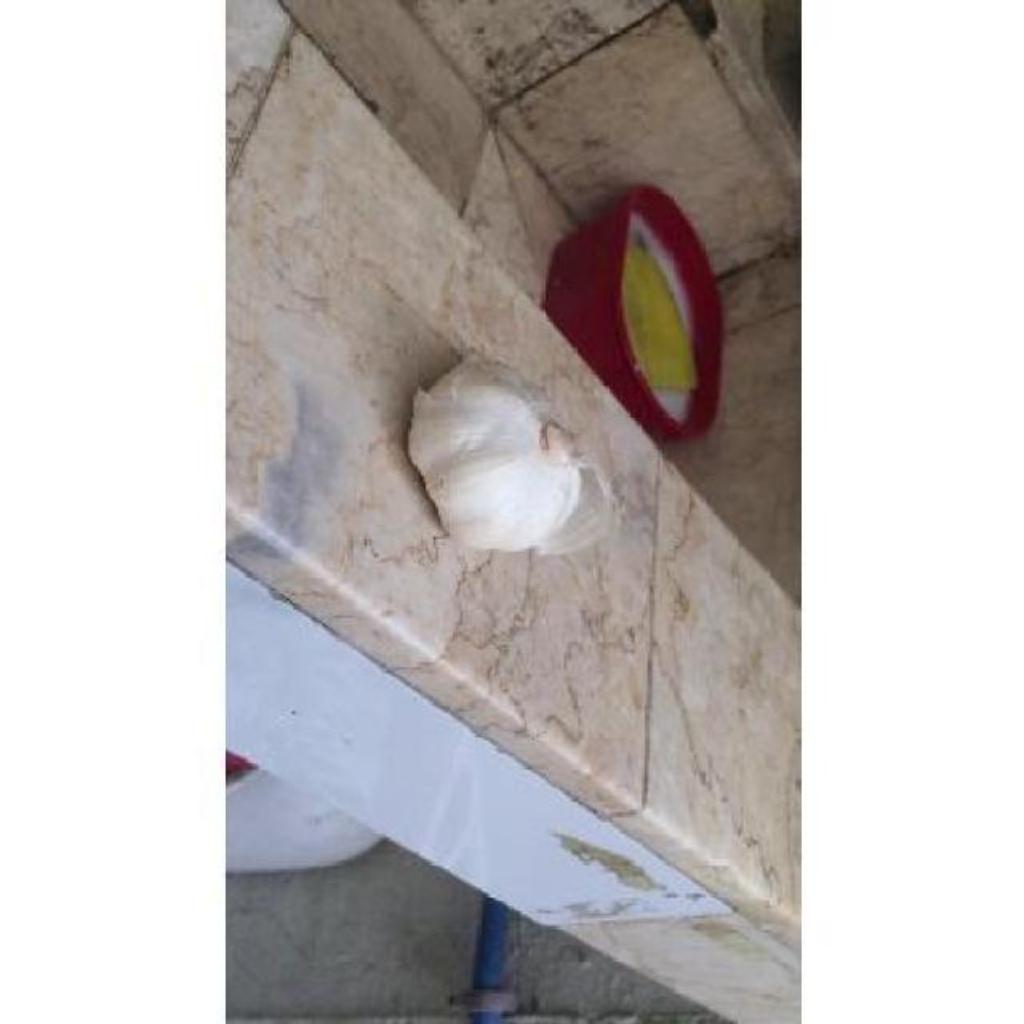garlic: (410, 362, 610, 553)
